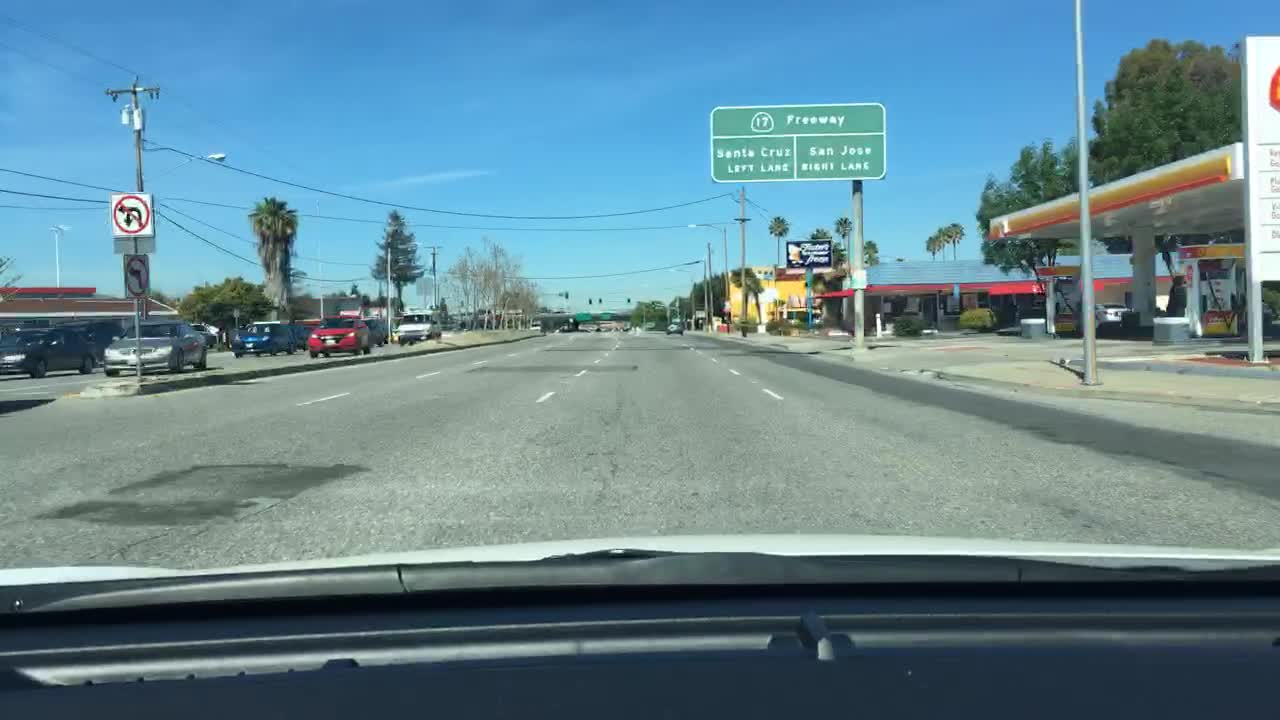car: (100, 319, 208, 377), (0, 322, 97, 378), (232, 319, 306, 358), (306, 317, 375, 357), (60, 319, 125, 357), (395, 308, 441, 345), (185, 325, 216, 349), (1095, 303, 1133, 321), (362, 318, 389, 343), (290, 325, 306, 352), (437, 319, 463, 330), (573, 323, 601, 331), (666, 322, 683, 335), (529, 319, 541, 333), (553, 325, 570, 334), (600, 325, 619, 331), (630, 326, 641, 330)
traffic sign: (708, 102, 888, 182), (110, 191, 154, 237), (121, 255, 152, 298), (111, 238, 156, 255), (576, 313, 592, 322), (232, 310, 240, 322), (599, 313, 609, 322), (668, 317, 683, 323), (643, 322, 655, 329), (220, 331, 226, 345)
